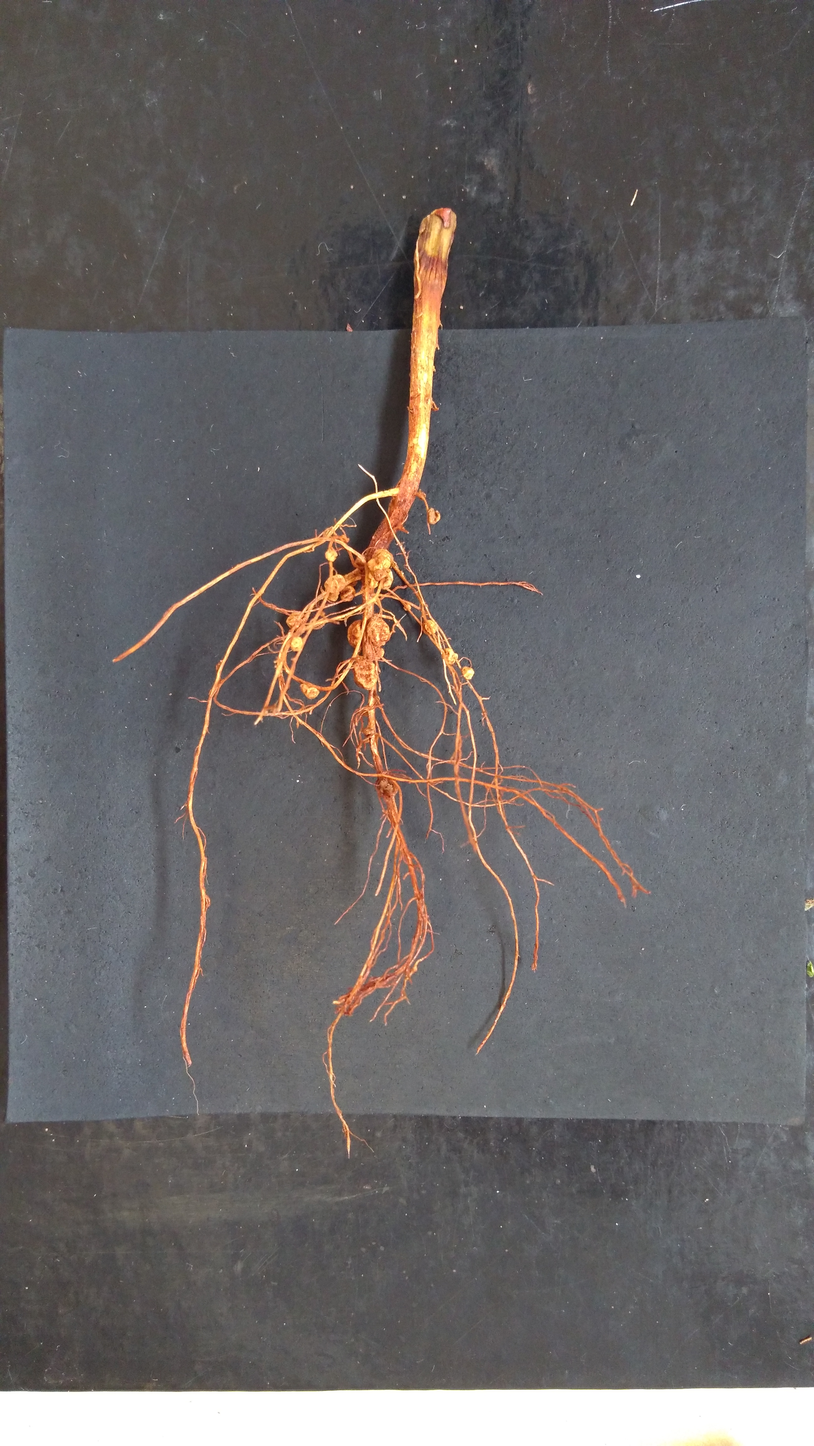nodule: (349, 652, 381, 692), (372, 774, 401, 803), (366, 615, 391, 647), (323, 572, 346, 602), (367, 548, 394, 572), (346, 618, 365, 649), (374, 568, 396, 591), (297, 681, 320, 700), (362, 643, 386, 661), (285, 611, 305, 630), (339, 584, 356, 603), (420, 618, 437, 636), (441, 646, 457, 665), (427, 506, 442, 526), (460, 665, 476, 680), (290, 634, 304, 651), (324, 546, 338, 562), (367, 572, 379, 588), (403, 603, 411, 611)
